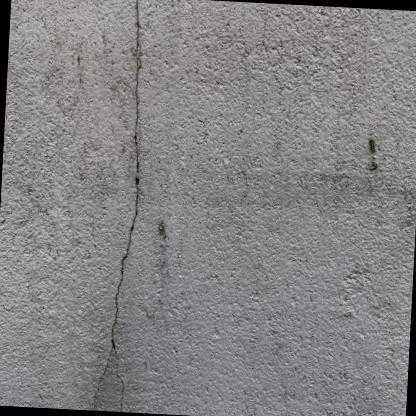crack: (111, 0, 138, 412)
